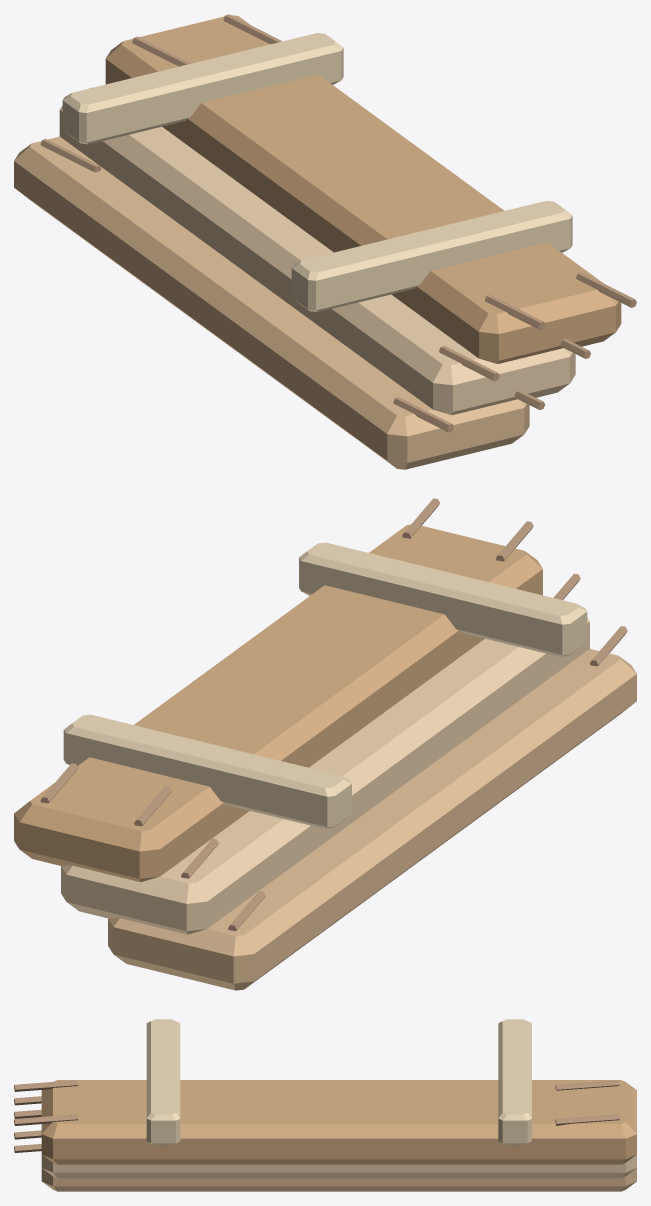
File: plank_bundle.glb
The picture shows the model from 3 angles, top to bottom: view 1: azimuth 30°, elevation 25°; view 2: azimuth 150°, elevation 25°; view 3: azimuth 270°, elevation 25°; orthographic projection. The views are drawn at different scales.
Parts seen in each view (by area): view 1: plank_bundle_wood_mid, plank_bundle_wood_honey, plank_bundle_wood_light, plank_bundle_rope, plank_bundle_wood_seam; view 2: plank_bundle_wood_mid, plank_bundle_wood_honey, plank_bundle_wood_light, plank_bundle_rope, plank_bundle_wood_seam; view 3: plank_bundle_wood_mid, plank_bundle_wood_light, plank_bundle_rope, plank_bundle_wood_honey, plank_bundle_wood_seam.
Boxes of the visible parts, x1,y1,x2,y2 form: plank_bundle_wood_mid: (105,15,621,363); plank_bundle_wood_honey: (14,136,529,469); plank_bundle_wood_light: (59,106,575,415); plank_bundle_rope: (62,33,572,312); plank_bundle_wood_seam: (40,14,636,432); plank_bundle_wood_mid: (14,524,542,882); plank_bundle_wood_honey: (108,649,636,990); plank_bundle_wood_light: (61,617,589,934); plank_bundle_rope: (63,542,587,828); plank_bundle_wood_seam: (40,498,627,931); plank_bundle_wood_mid: (41,1080,636,1164); plank_bundle_wood_light: (41,1155,636,1178); plank_bundle_rope: (146,1019,531,1145); plank_bundle_wood_honey: (41,1168,636,1191); plank_bundle_wood_seam: (14,1080,619,1152).
Size of the model in its own units: 0.52 by 0.2935 by 1.38.
